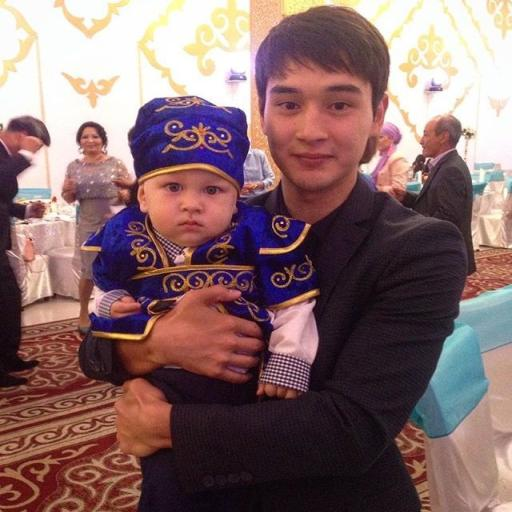bus: (7, 231, 53, 305), (477, 179, 511, 248), (46, 246, 79, 299), (472, 182, 486, 249), (15, 188, 51, 200), (474, 163, 495, 169)
bus_stop: (84, 97, 318, 397)
